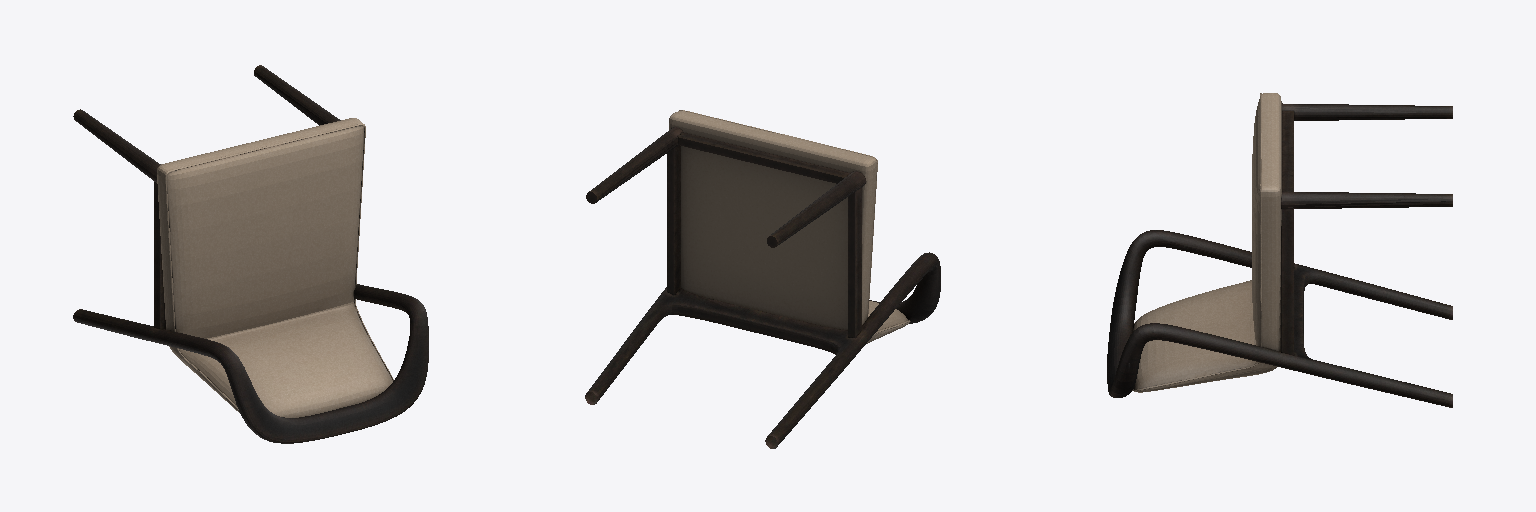
3 renders of one model, left to right at view 1: azimuth 30°, elevation 25°; view 2: azimuth 150°, elevation 25°; view 3: azimuth 270°, elevation 25°, orthographic.
Bounding box in the file's own units: 0.5865 × 0.6313 × 0.8495.
1 materials, 1 textured.